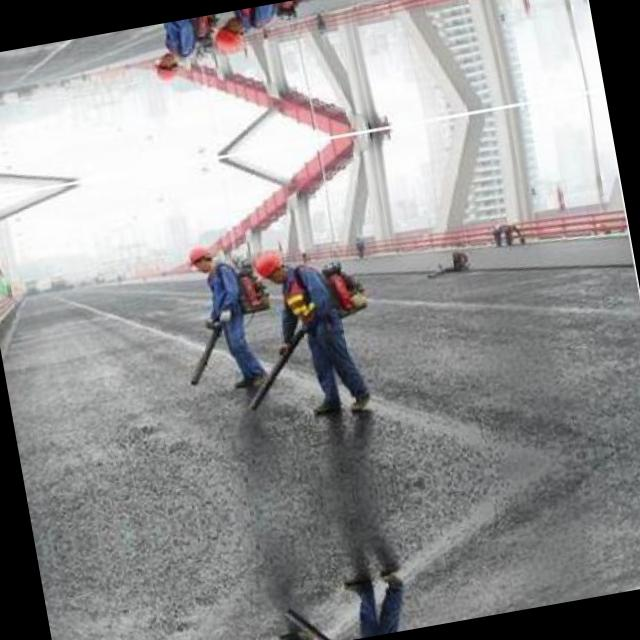helmet: (250, 246, 290, 287), (209, 16, 250, 56), (182, 238, 214, 272), (150, 54, 181, 88)
